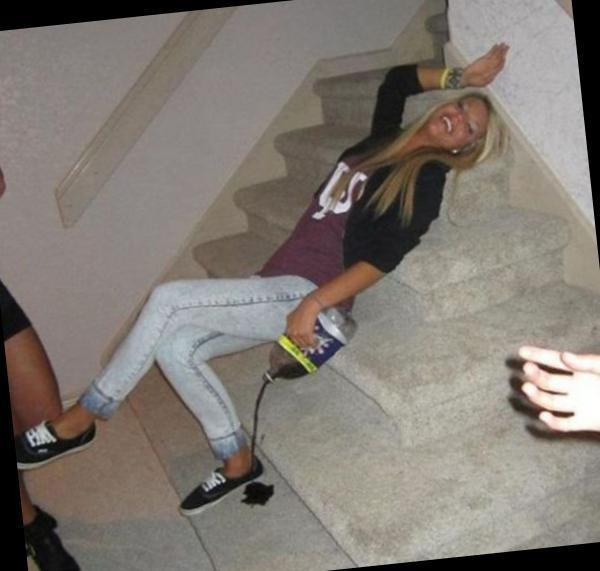Drunk: (433, 93, 485, 144)
